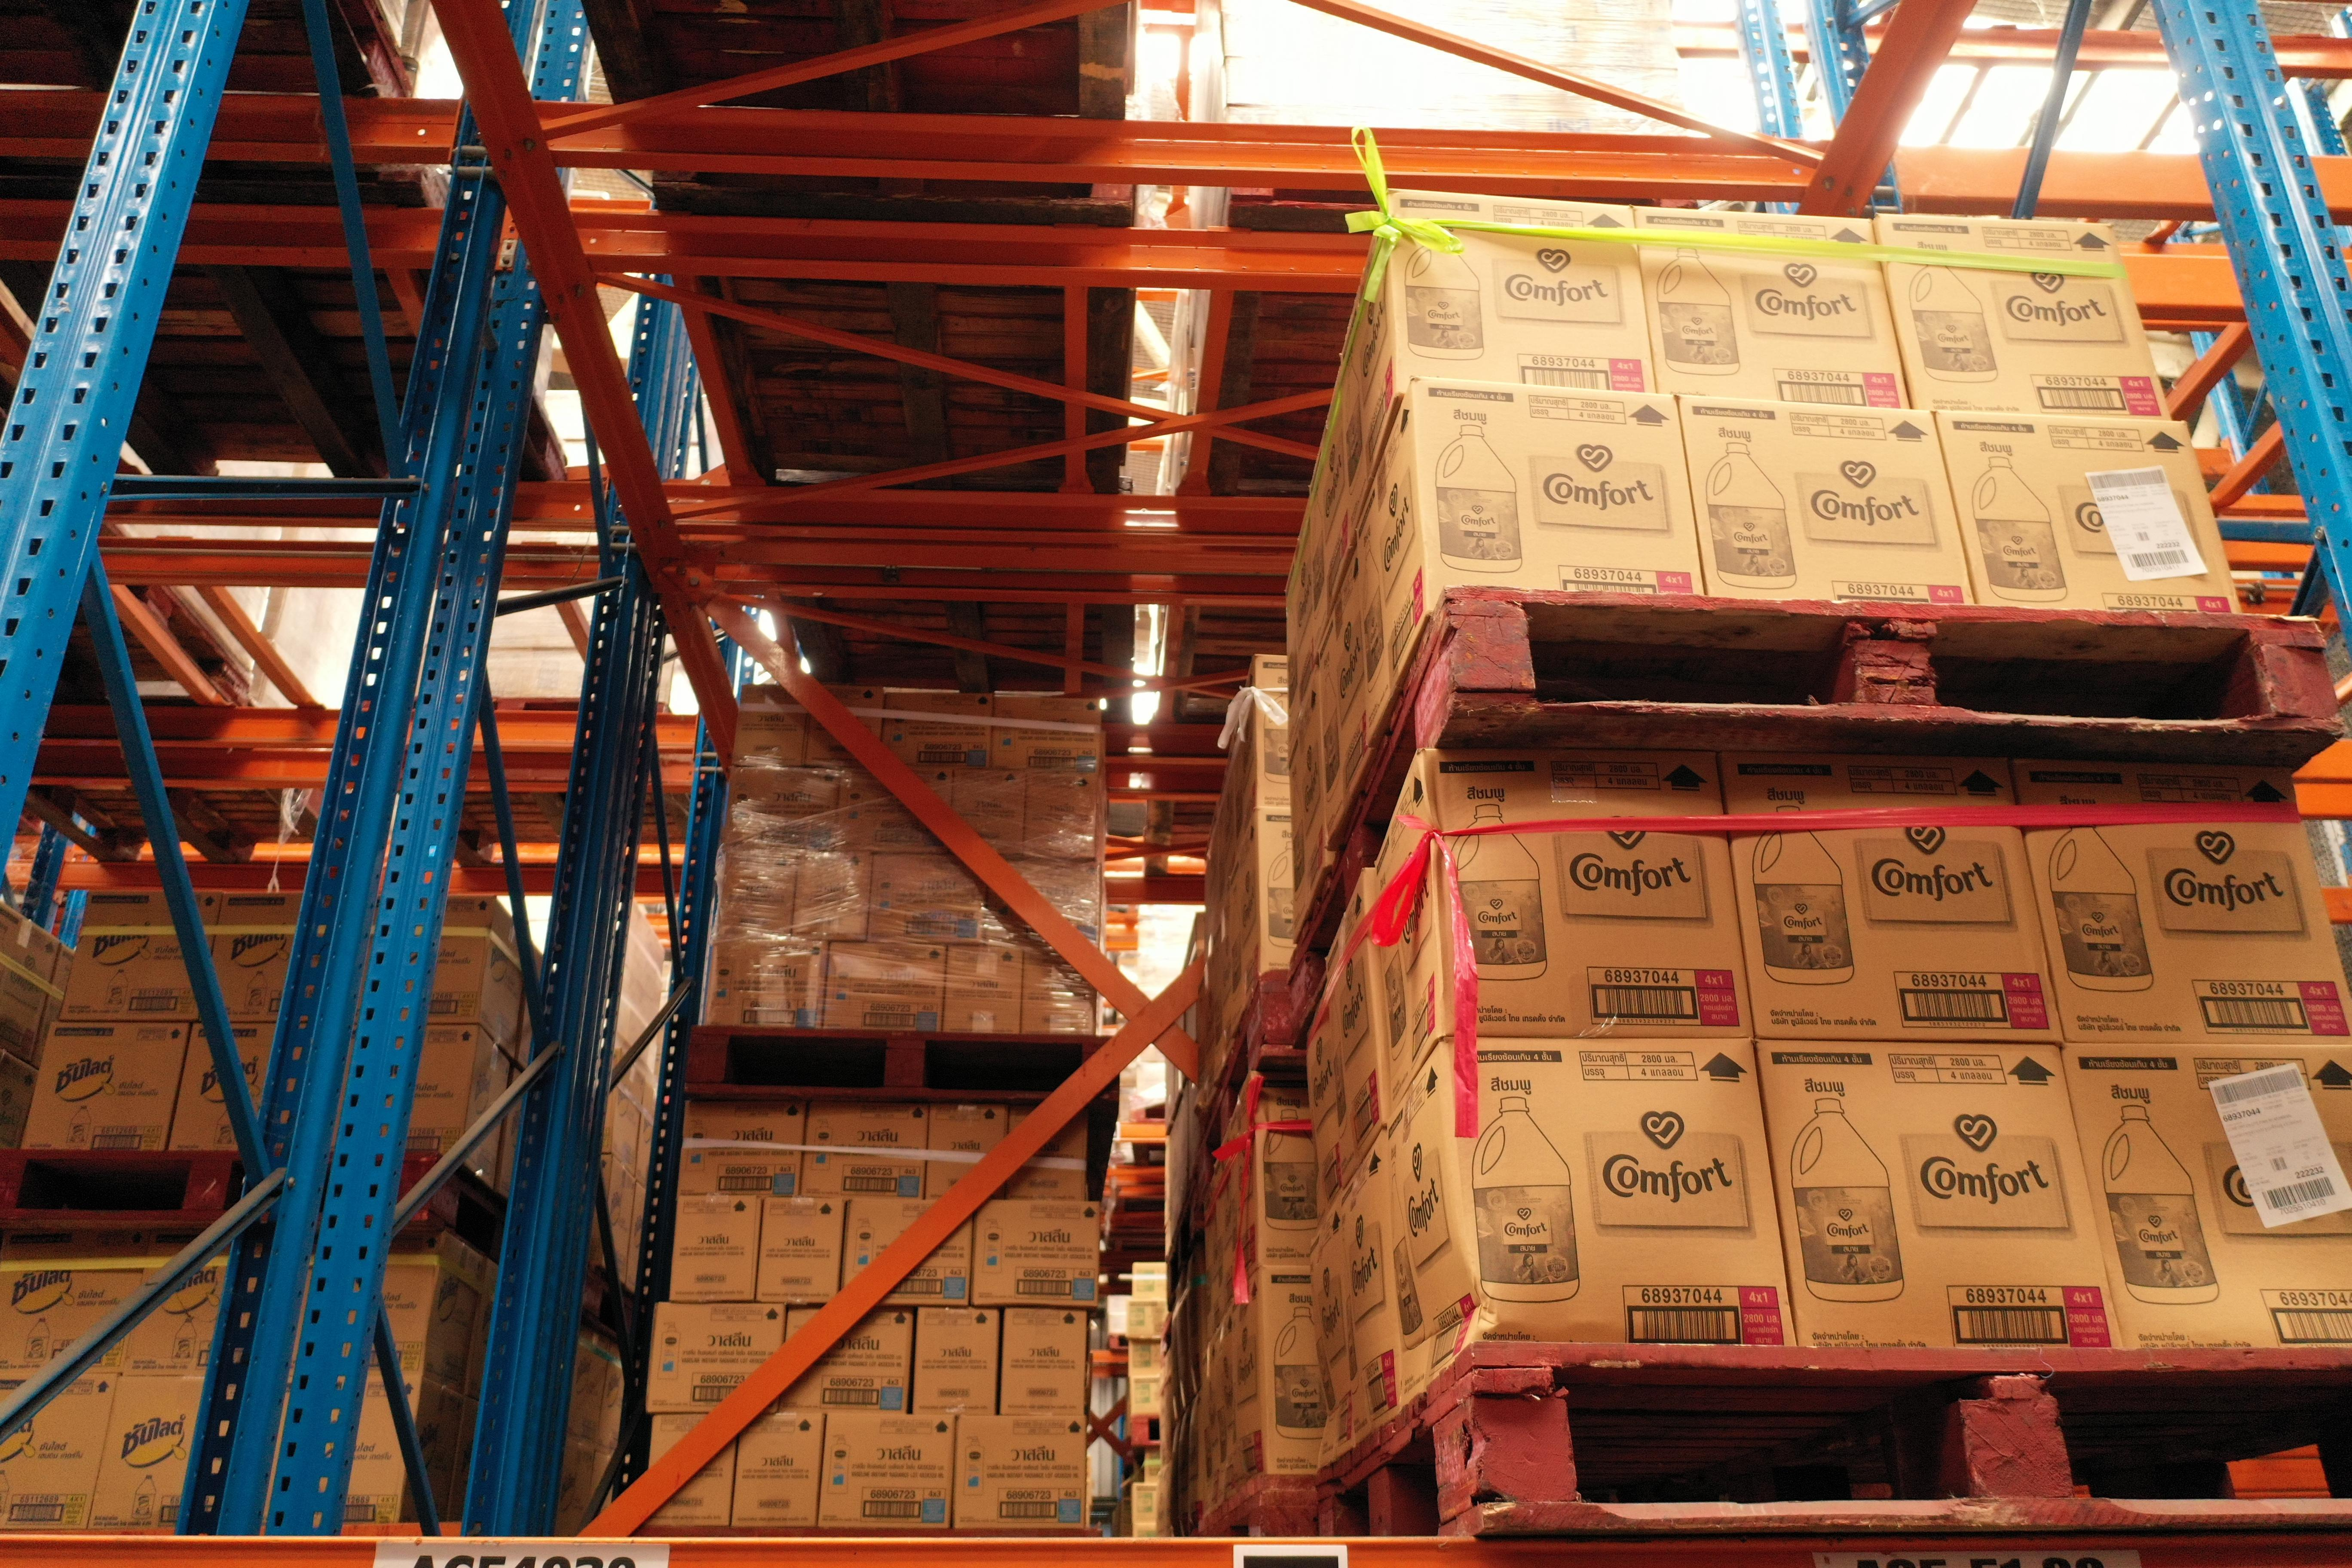-: (1752, 1038, 2128, 1353), (1438, 1034, 1801, 1346), (1718, 747, 2063, 1041), (1419, 745, 1757, 1039), (2007, 759, 2352, 1045), (2058, 1043, 2352, 1354), (1409, 373, 1706, 619), (1935, 409, 2247, 618), (1676, 397, 1979, 607), (1871, 210, 2173, 416), (1629, 201, 1916, 415), (1379, 187, 1659, 402)
2: (56, 887, 222, 1025), (21, 1022, 191, 1151), (0, 1237, 150, 1377), (86, 1375, 205, 1533), (0, 1374, 117, 1531), (814, 1412, 957, 1531), (952, 1412, 1088, 1531), (647, 1302, 787, 1417), (121, 1235, 231, 1377), (777, 1304, 913, 1416), (166, 1022, 282, 1153), (674, 1095, 808, 1202), (842, 1199, 973, 1307), (975, 1195, 1097, 1307), (201, 891, 303, 1025), (803, 1097, 929, 1200), (821, 940, 948, 1034), (726, 1409, 826, 1529), (364, 1230, 439, 1384), (644, 1410, 738, 1529), (346, 1377, 422, 1524), (717, 766, 842, 854), (703, 941, 828, 1029), (868, 854, 989, 943), (987, 856, 1102, 947), (406, 1024, 481, 1162), (1001, 1305, 1088, 1421), (913, 1305, 1003, 1417), (877, 688, 994, 772), (835, 770, 952, 854), (756, 1197, 845, 1305), (990, 691, 1104, 775), (672, 1197, 761, 1302), (427, 894, 497, 1025), (924, 1097, 1010, 1199), (1003, 1097, 1087, 1197), (709, 852, 800, 943), (730, 681, 817, 772), (938, 943, 1022, 1034), (791, 852, 873, 945), (947, 768, 1029, 859), (807, 682, 885, 772), (1020, 947, 1099, 1034), (1025, 773, 1101, 861)
